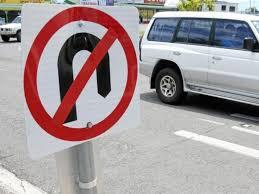no_u_turn: (24, 5, 137, 140)
